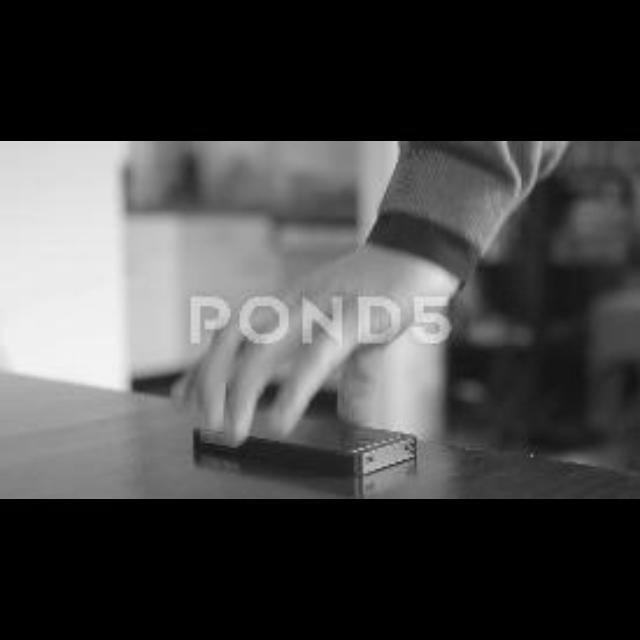fake: (190, 367, 434, 487)
